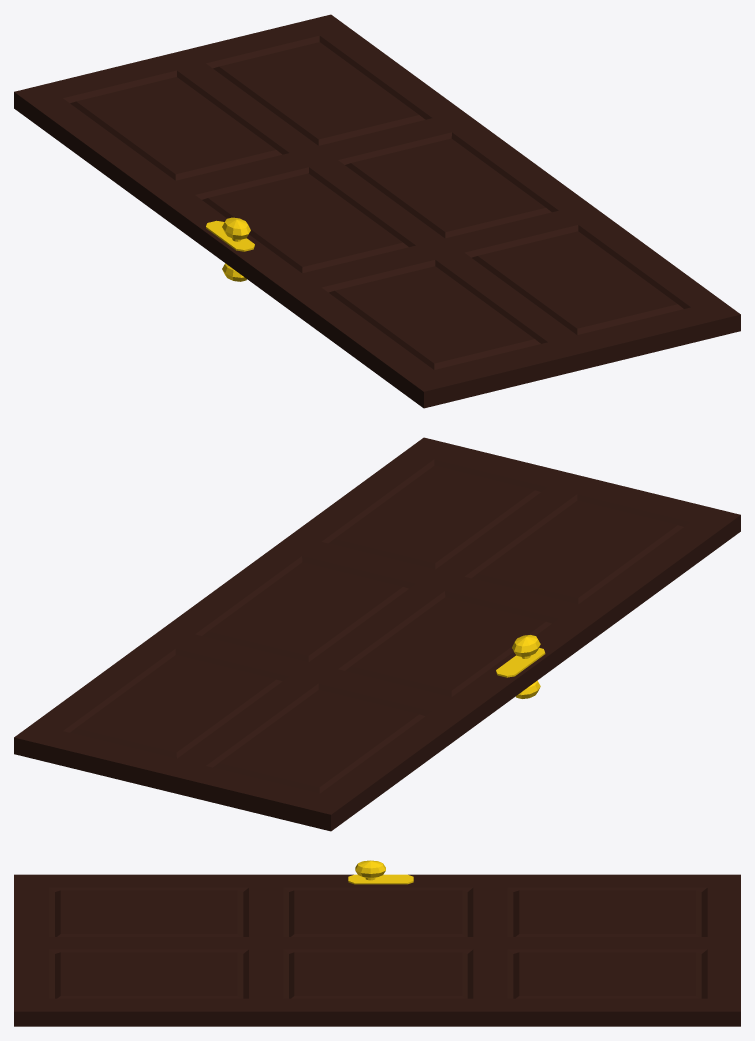
File: Door_01.obj
The picture shows the model from 3 angles, top to bottom: view 1: azimuth 30°, elevation 25°; view 2: azimuth 150°, elevation 25°; view 3: azimuth 270°, elevation 25°; orthographic projection. The views are drawn at different scales.
Parts seen in each view (by area): view 1: pCube12; view 2: pCube12; view 3: pCube12.
Boxes of the visible parts, x1=… form: pCube12: x1=14, y1=14, x2=740, y2=408; pCube12: x1=14, y1=437, x2=740, y2=831; pCube12: x1=14, y1=860, x2=740, y2=1026.
Size of the model in its own units: 229 by 41.46 by 512.
